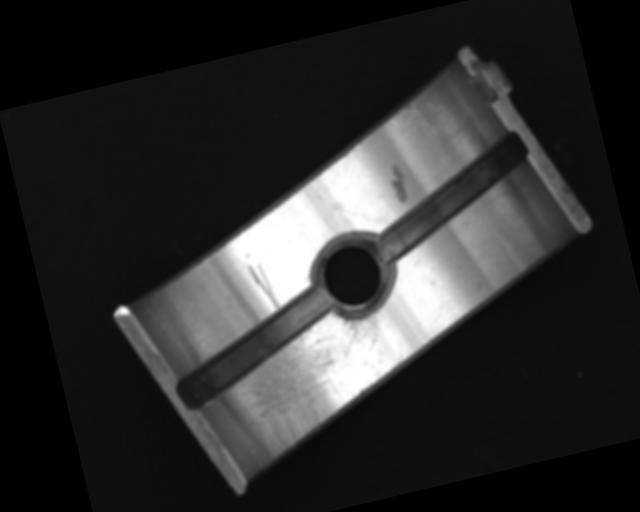bruise: (385, 160, 414, 206)
gap: (353, 130, 546, 266), (161, 286, 345, 411)
hole: (307, 229, 401, 322)
nick: (246, 259, 280, 316)
scratch: (232, 302, 417, 465)
